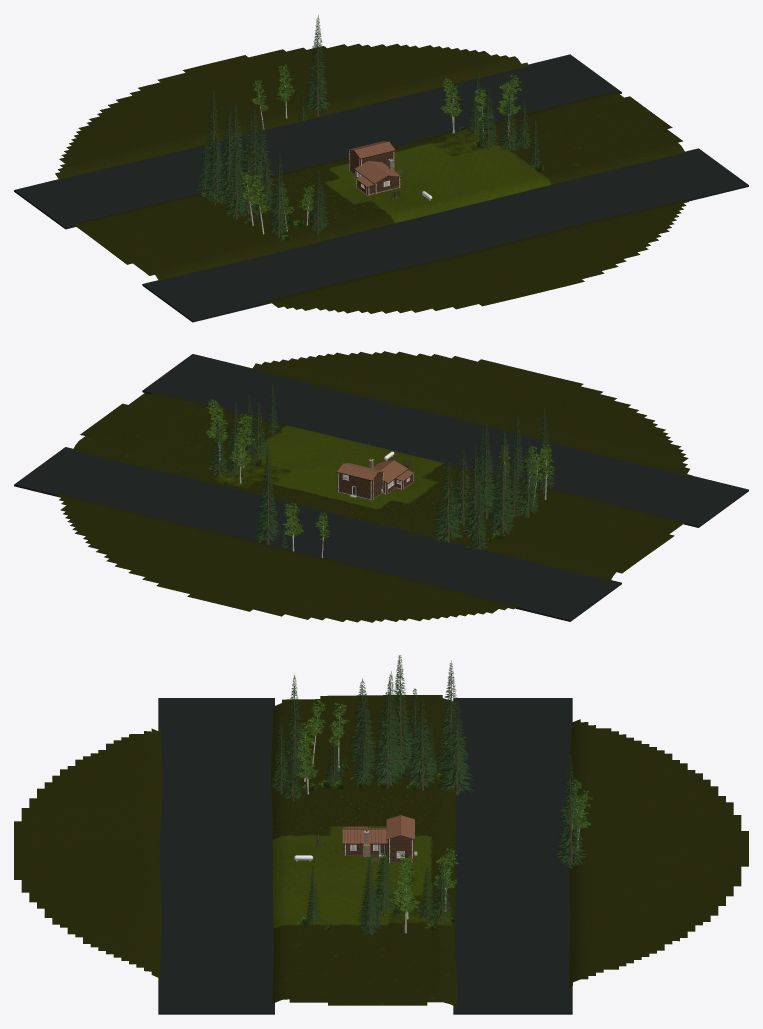
File: cabin_v2.glb
3 renders of one model, top to bottom at view 1: azimuth 30°, elevation 25°; view 2: azimuth 150°, elevation 25°; view 3: azimuth 270°, elevation 25°, orthographic. The views are drawn at different scales.
Parts seen in each view (by area): view 1: Ground, River.001, River, P_Fir0_inst.059, P_Fir0_inst.051, P_Spruce0_inst.034, P_Fir0_inst.055, P_Fir0_inst.040, P_Spruce3_inst.043, P_Spruce0_inst.036, P_Spruce0_inst.038, P_Fir1_inst.029 (+6 smaller); view 2: Ground, River, River.001, P_Fir0_inst.059, P_Spruce1_inst.037, P_Fir0_inst.055, P_Fir0_inst.051, P_Spruce0_inst.034, P_Fir1_inst.029, P_Spruce3_inst.043, P_Spruce0_inst.041, P_Birch1_inst.042 (+10 smaller); view 3: Ground, River.001, River, P_Fir0_inst.059, P_Spruce1_inst.037, P_Spruce0_inst.036, P_Spruce0_inst.041, P_Fir0_inst.055, P_Fir0_inst.051, P_Fir1_inst.029, P_Fir0_inst.040, P_Spruce0_inst.034 (+12 smaller).
Part boxes in pixels (left/top/right/bottom): Ground: left=55, top=43, right=691, bottom=313; River.001: left=142, top=148, right=748, bottom=322; River: left=14, top=54, right=621, bottom=229; P_Fir0_inst.059: left=303, top=15, right=331, bottom=116; P_Fir0_inst.051: left=215, top=103, right=241, bottom=205; P_Spruce0_inst.034: left=224, top=145, right=248, bottom=219; P_Fir0_inst.055: left=200, top=89, right=224, bottom=189; P_Fir0_inst.040: left=267, top=151, right=290, bottom=237; P_Spruce3_inst.043: left=203, top=131, right=226, bottom=206; P_Spruce0_inst.036: left=252, top=117, right=275, bottom=204; P_Spruce0_inst.038: left=478, top=86, right=498, bottom=150; P_Fir1_inst.029: left=243, top=106, right=265, bottom=203; Ground: left=56, top=351, right=692, bottom=622; River: left=14, top=447, right=621, bottom=621; River.001: left=142, top=354, right=748, bottom=527; P_Fir0_inst.059: left=253, top=446, right=280, bottom=544; P_Spruce1_inst.037: left=431, top=459, right=463, bottom=543; P_Fir0_inst.055: left=461, top=442, right=487, bottom=542; P_Fir0_inst.051: left=488, top=425, right=516, bottom=523; P_Spruce0_inst.034: left=515, top=440, right=540, bottom=518; P_Fir1_inst.029: left=473, top=424, right=497, bottom=519; P_Spruce3_inst.043: left=489, top=462, right=515, bottom=535; P_Spruce0_inst.041: left=449, top=446, right=472, bottom=527; P_Birch1_inst.042: left=205, top=399, right=230, bottom=460; Ground: left=14, top=695, right=748, bottom=1007; River.001: left=158, top=698, right=274, bottom=1014; River: left=453, top=698, right=572, bottom=1014; P_Fir0_inst.059: left=554, top=752, right=586, bottom=869; P_Spruce1_inst.037: left=437, top=700, right=475, bottom=795; P_Spruce0_inst.036: left=370, top=692, right=403, bottom=788; P_Spruce0_inst.041: left=406, top=699, right=438, bottom=790; P_Fir0_inst.055: left=435, top=660, right=463, bottom=778; P_Fir0_inst.051: left=391, top=655, right=413, bottom=772; P_Fir1_inst.029: left=375, top=671, right=406, bottom=785; P_Fir0_inst.040: left=282, top=674, right=303, bottom=774; P_Spruce0_inst.034: left=349, top=678, right=376, bottom=762.
Size of the model in its own units: 154 by 30.07 by 152.
Materials: 32 (14 with a texture image).
